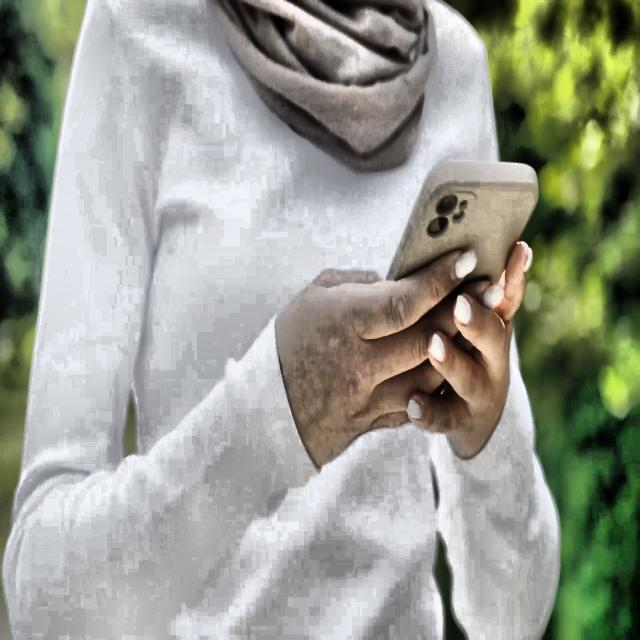Phone: (387, 160, 540, 290)
